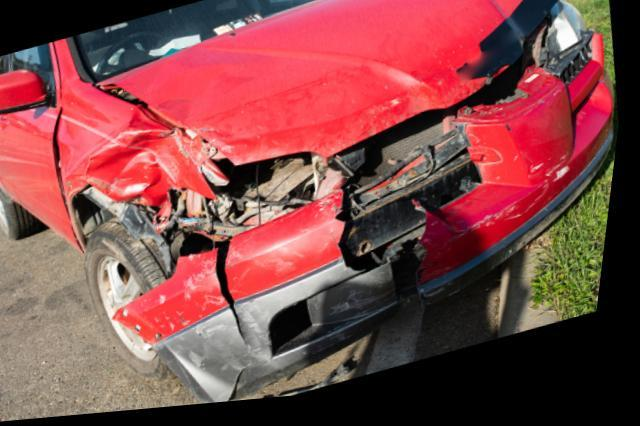crack: (222, 243, 259, 355), (238, 372, 259, 407)
dent: (116, 63, 397, 144), (91, 128, 219, 207)
scratch: (473, 166, 575, 243), (195, 304, 278, 376), (238, 251, 312, 285), (185, 263, 232, 314), (338, 296, 396, 322)
